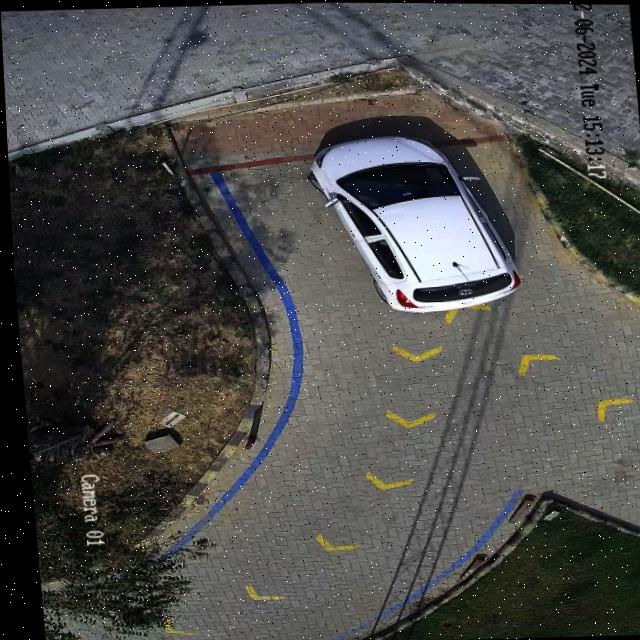car: (305, 133, 516, 315)
